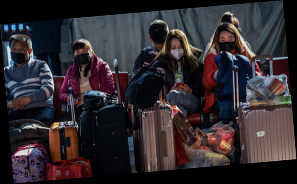with_mask: (10, 42, 29, 64), (73, 47, 91, 65), (218, 34, 236, 51), (170, 43, 184, 59)
